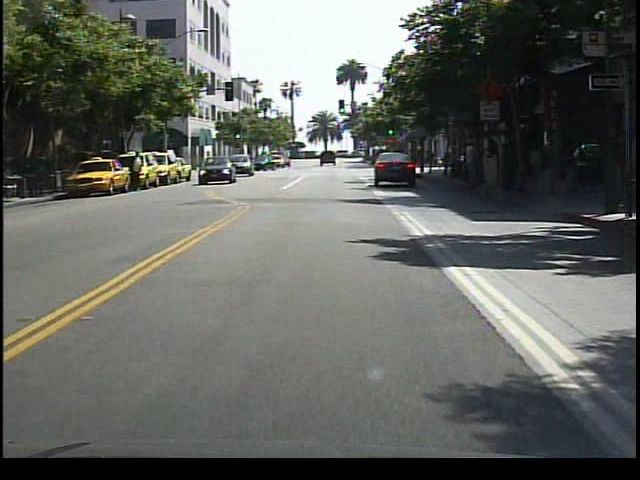person: (461, 135, 484, 196), (130, 147, 148, 196)
